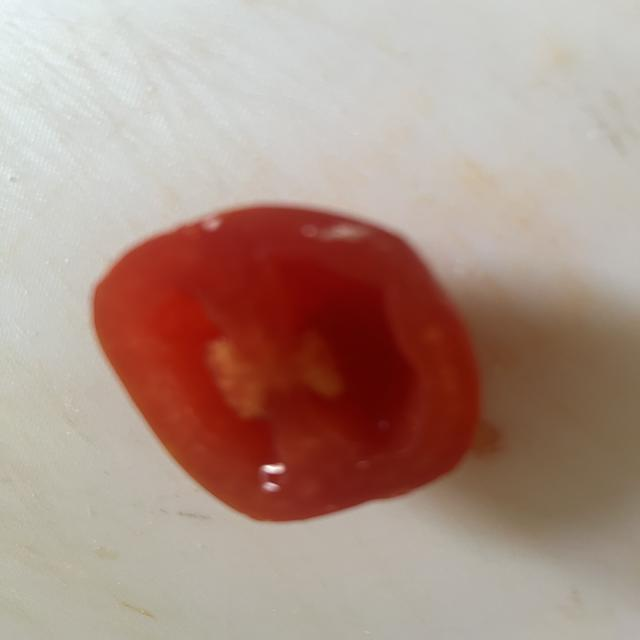sliced_tomato: (94, 207, 479, 521)
